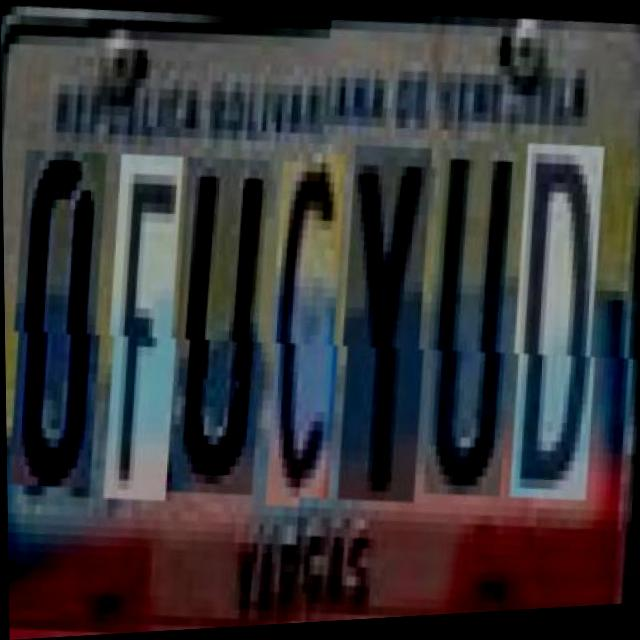0: (12, 146, 118, 490)
c: (269, 156, 356, 507)
d: (511, 143, 614, 507)
f: (107, 151, 194, 502)
u: (425, 141, 529, 505), (174, 151, 279, 495)
y: (339, 147, 443, 511)
